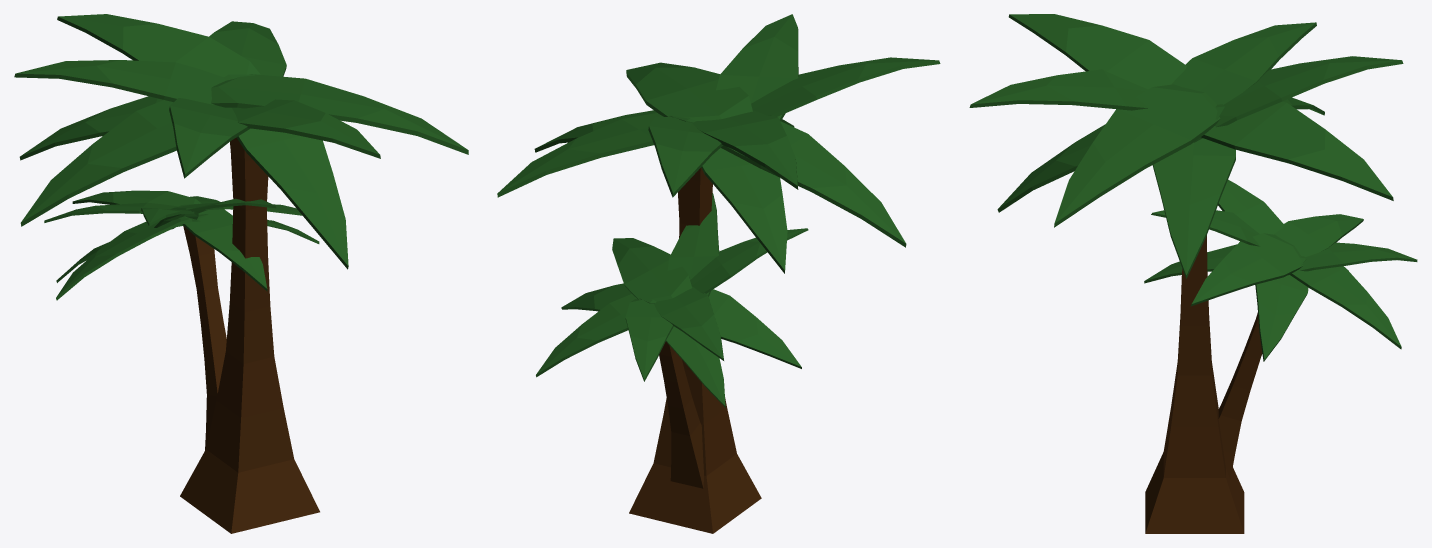
The model's file is DoubleTree.fbx.
The picture shows the model from 3 angles, left to right: view 1: azimuth 30°, elevation 25°; view 2: azimuth 150°, elevation 25°; view 3: azimuth 270°, elevation 25°; orthographic projection. The views are drawn at different scales.
Visible parts, largest first — view 1: Cube.002, Leaf.006, Leaf.005, Leaf.004, Leaf.002, Leaf.009, Cube.001, Leaf.003, Leaf.010, Leaf, Leaf.015, Leaf.001 (+5 smaller); view 2: Cube.002, Leaf.001, Leaf.004, Leaf.005, Leaf.010, Leaf, Cube.001, Leaf.003, Leaf.009, Leaf.017, Leaf.002, Leaf.016 (+8 smaller); view 3: Cube.002, Leaf.004, Leaf, Leaf.007, Leaf.003, Leaf.009, Leaf.010, Leaf.002, Leaf.017, Leaf.013, Cube.001, Leaf.014 (+6 smaller).
Boxes of the visible parts, x1,y1,x2,y2 form: Cube.002: (180, 137, 319, 533); Leaf.006: (223, 74, 348, 269); Leaf.005: (20, 100, 176, 226); Leaf.004: (211, 74, 468, 154); Leaf.002: (57, 14, 260, 77); Leaf.009: (14, 60, 225, 104); Cube.001: (183, 226, 226, 450); Leaf.003: (169, 98, 250, 178); Leaf.010: (232, 99, 380, 158); Leaf: (209, 21, 286, 76); Leaf.015: (179, 203, 267, 291); Leaf.001: (19, 96, 163, 160); Cube.002: (629, 167, 761, 533); Leaf.001: (701, 148, 787, 273); Leaf.004: (626, 62, 752, 120); Leaf.005: (721, 121, 906, 247); Leaf.010: (716, 14, 798, 121); Leaf: (497, 113, 663, 197); Cube.001: (659, 341, 703, 488); Leaf.003: (751, 57, 940, 116); Leaf.009: (692, 110, 798, 189); Leaf.017: (612, 238, 691, 301); Leaf.002: (648, 116, 723, 197); Leaf.016: (708, 289, 801, 368); Cube.002: (1145, 235, 1244, 533); Leaf.004: (1054, 84, 1220, 227); Leaf: (1201, 101, 1393, 200); Leaf.007: (1152, 138, 1235, 278); Leaf.003: (1008, 14, 1186, 89); Leaf.009: (1171, 22, 1316, 104); Leaf.010: (969, 69, 1148, 110); Leaf.002: (1194, 56, 1403, 142); Leaf.017: (1190, 233, 1302, 306); Leaf.013: (1289, 266, 1401, 349); Cube.001: (1218, 312, 1262, 479); Leaf.014: (1255, 275, 1308, 361).
Bounding box in the file's own units: 456 × 491 × 460.
